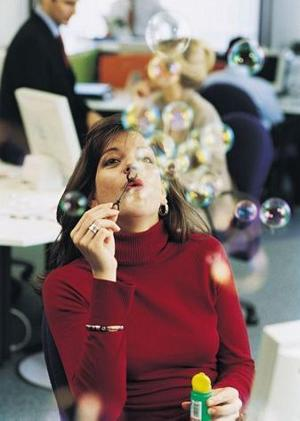person: (41, 113, 255, 421)
